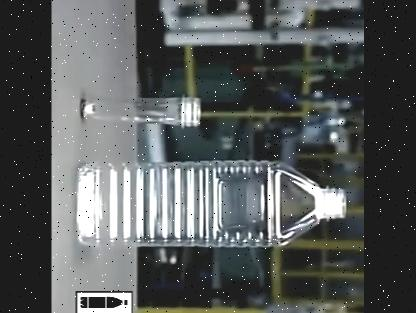Plastic Bottle: (75, 161, 346, 248)
